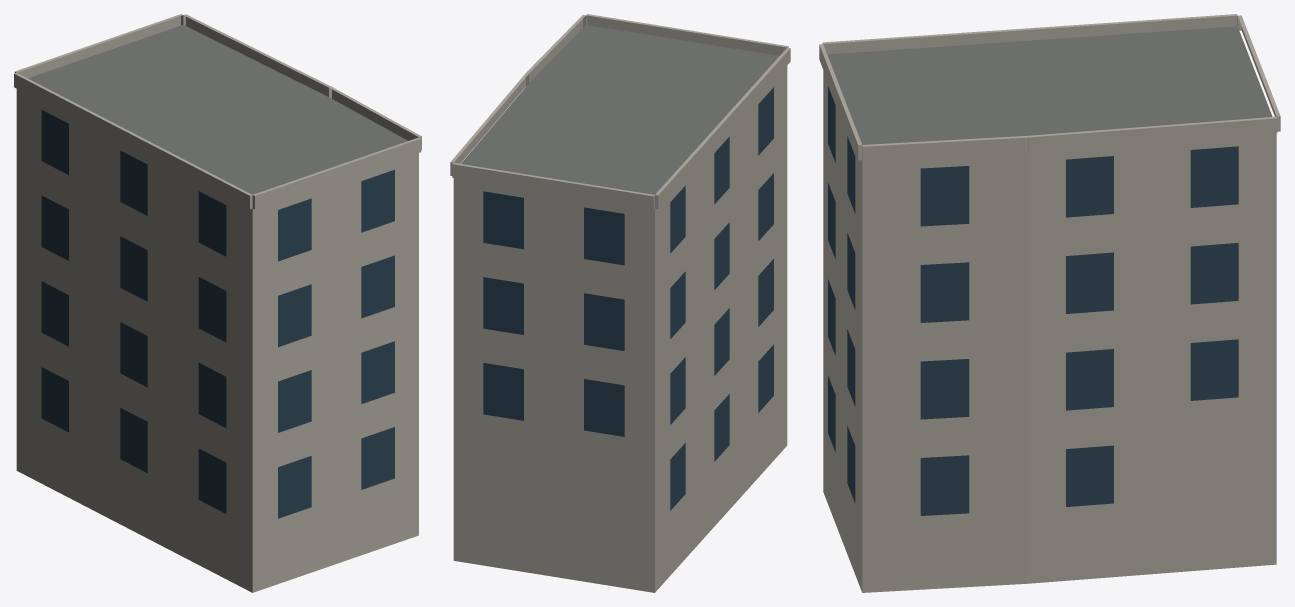
3 views of the same model, side by side, from view 1: azimuth 30°, elevation 25°; view 2: azimuth 150°, elevation 25°; view 3: azimuth 270°, elevation 25° (orthographic). The views are drawn at different scales.
Visible parts, largest first — view 1: Footprint 0 / surface 2, Inset glazing, Footprint 0 / surface 1, Facade bay volumes; view 2: Footprint 0 / surface 2, Footprint 0 / surface 1, Inset glazing, Facade bay volumes; view 3: Footprint 0 / surface 2, Footprint 0 / surface 1, Inset glazing, Facade bay volumes.
Part boxes in pixels (<box>): Footprint 0 / surface 2: <box>16,89,418,592</box>; Inset glazing: <box>41,110,394,518</box>; Footprint 0 / surface 1: <box>28,24,407,194</box>; Facade bay volumes: <box>14,14,421,209</box>; Footprint 0 / surface 2: <box>453,66,787,592</box>; Footprint 0 / surface 1: <box>461,25,779,194</box>; Inset glazing: <box>483,87,773,510</box>; Facade bay volumes: <box>450,14,790,209</box>; Footprint 0 / surface 2: <box>823,70,1276,592</box>; Footprint 0 / surface 1: <box>827,26,1272,144</box>; Inset glazing: <box>828,86,1238,515</box>; Facade bay volumes: <box>819,14,1280,161</box>.
Bounding box in the file's own units: 9.32 × 14.67 × 13.69.
